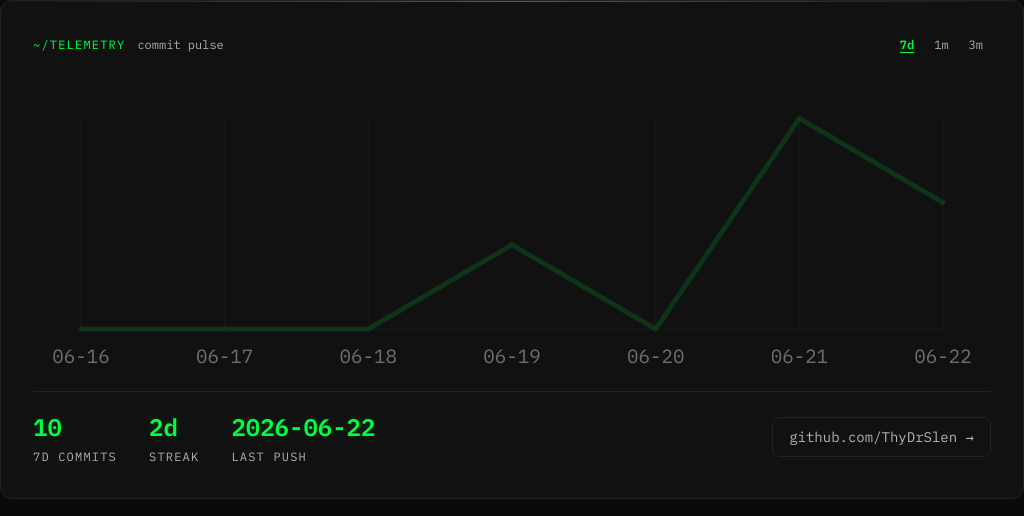
it: PulseDashboard › clicking a range button changes the displayed range label
The width and height of the screenshot is (1024, 516).
Expected: the text "7d commits" is shown, x1=33 y1=447 x2=117 y2=466
Click the button with test id "pulse-range-30" at (941, 44), box x1=926 y1=33 x2=957 y2=56
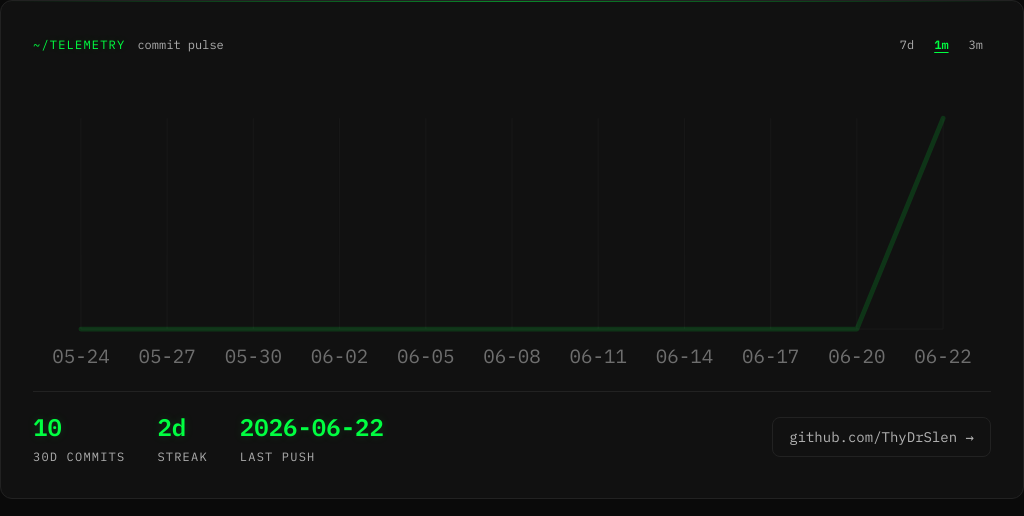
Expected: the text "30d commits" is shown, x1=33 y1=447 x2=125 y2=466
Expected: the text "7d commits" is gone
Click the button with test id "pulse-range-90" at (976, 44), box x1=961 y1=33 x2=991 y2=56
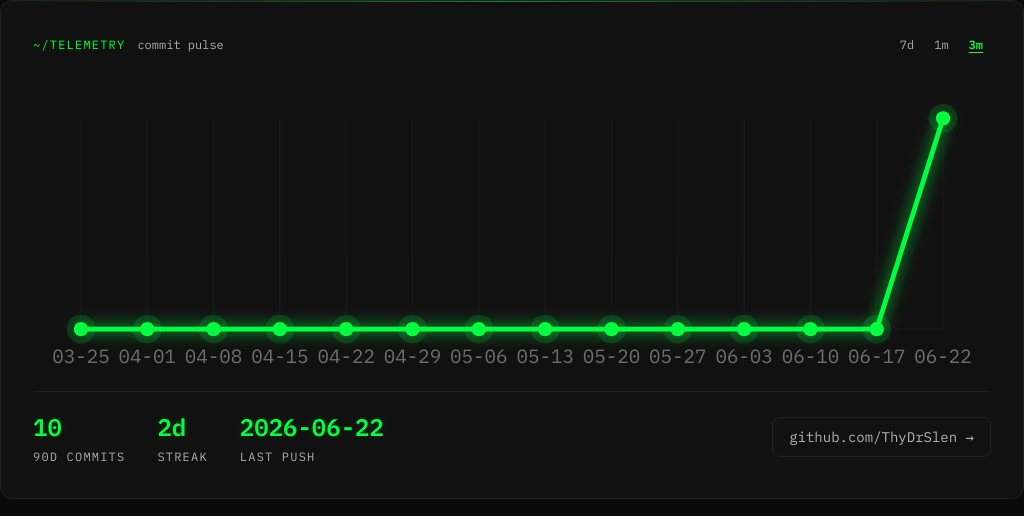
Expected: the text "90d commits" is shown, x1=33 y1=447 x2=125 y2=466
Expected: the text "30d commits" is gone
